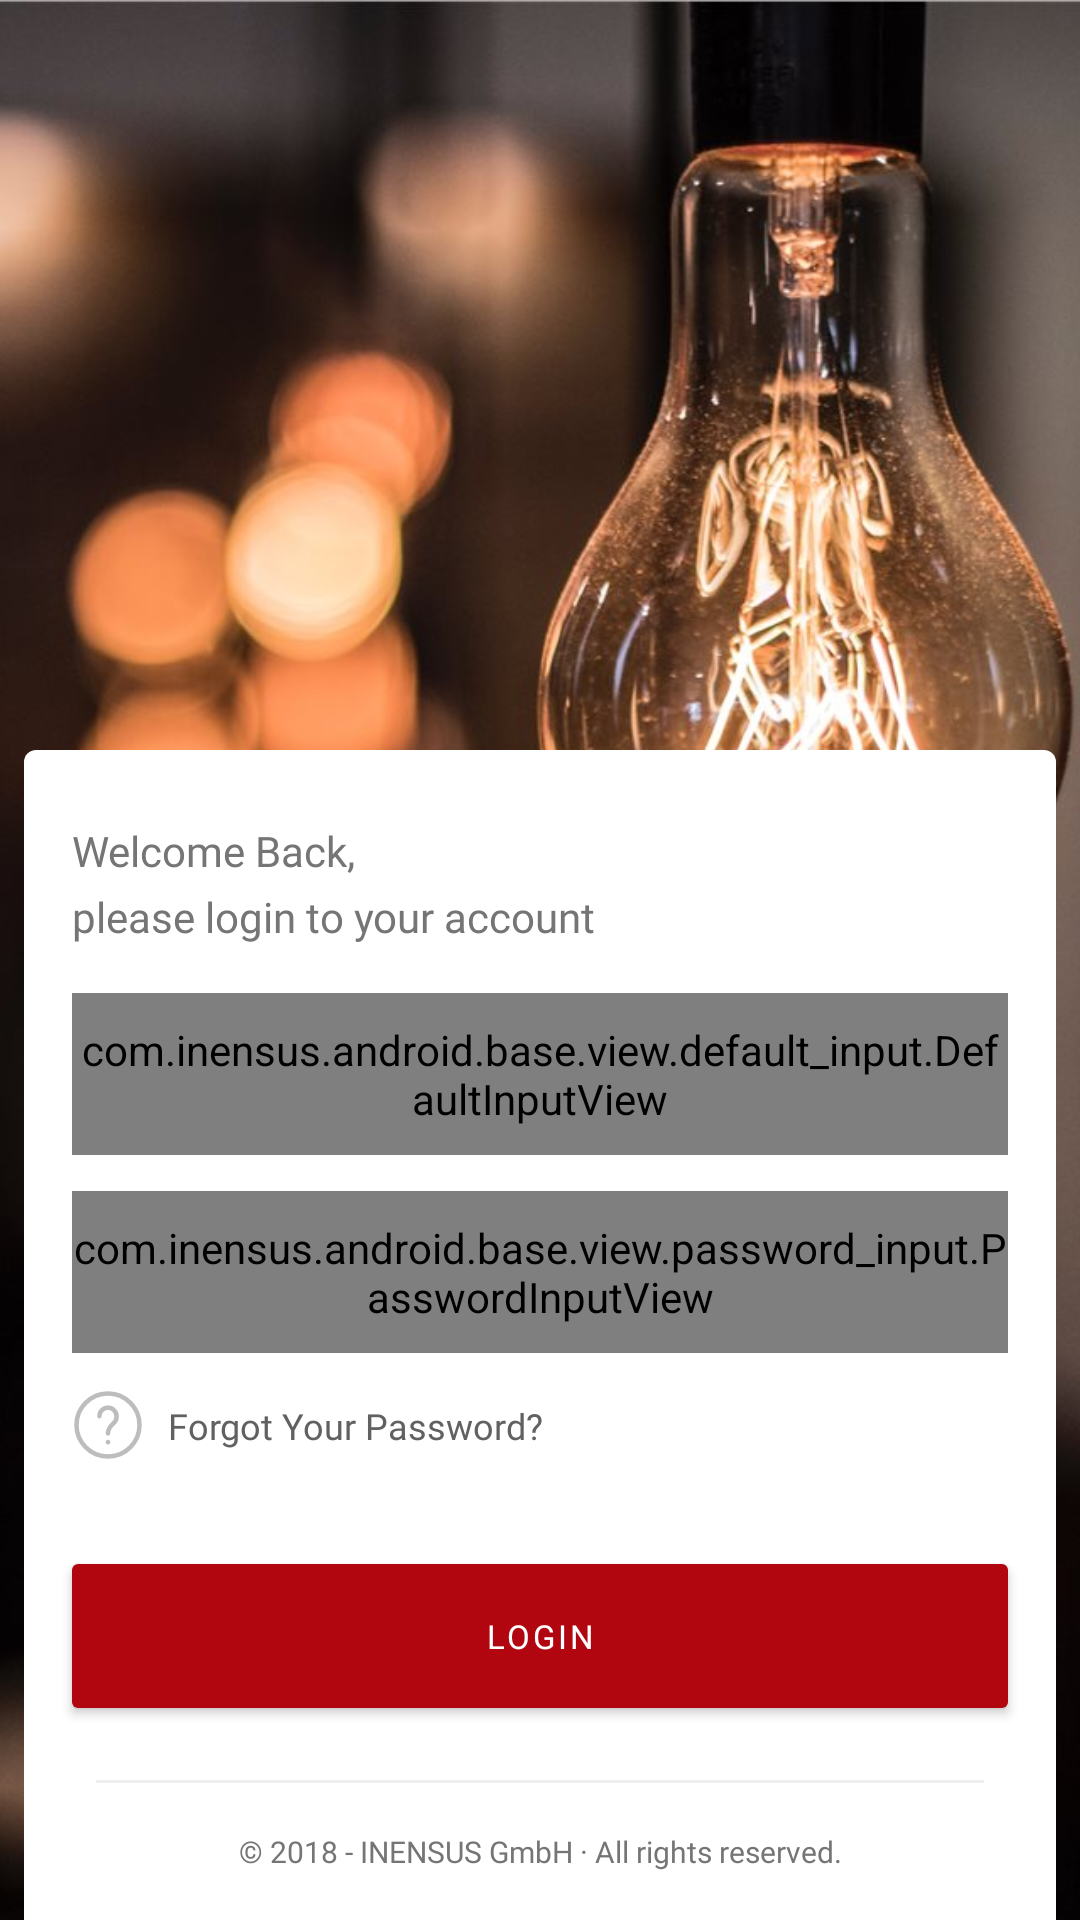

Icons on this 1080px x 1920px Android screen, each with the point to tap as point (x, y):
question mark: point (108, 1425)
